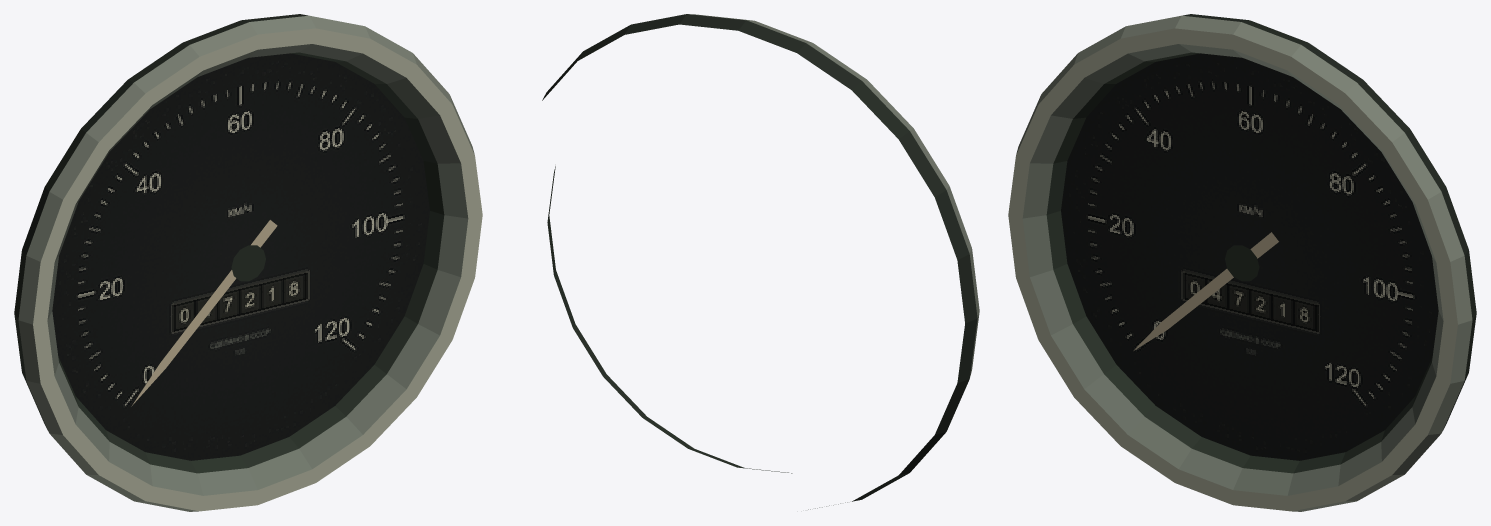
File: uaz-speedometer-game.glb
3 renders of one model, left to right at view 1: azimuth 30°, elevation 25°; view 2: azimuth 150°, elevation 25°; view 3: azimuth 330°, elevation 25°, orthographic.
Visible parts, largest first — view 1: speedometer_static, speed_needle; view 2: speedometer_static; view 3: speedometer_static, speed_needle.
Boxes of the visible parts, x1=… form: speedometer_static: x1=14, y1=14, x2=482, y2=511; speed_needle: x1=131, y1=220, x2=277, y2=406; speedometer_static: x1=542, y1=14, x2=979, y2=509; speedometer_static: x1=1008, y1=14, x2=1476, y2=511; speed_needle: x1=1133, y1=232, x2=1278, y2=350.
Bounding box in the file's own units: 0.112 × 0.112 × 0.0074.
1 material, 1 textured.
